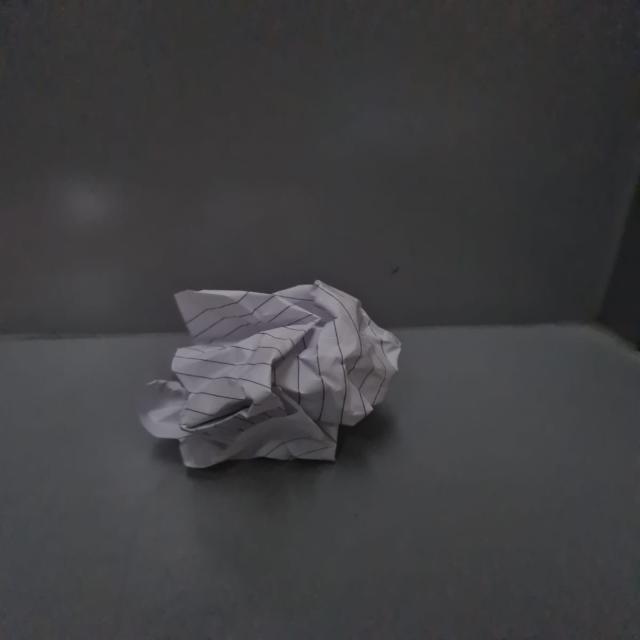Paper: (143, 281, 405, 470)
